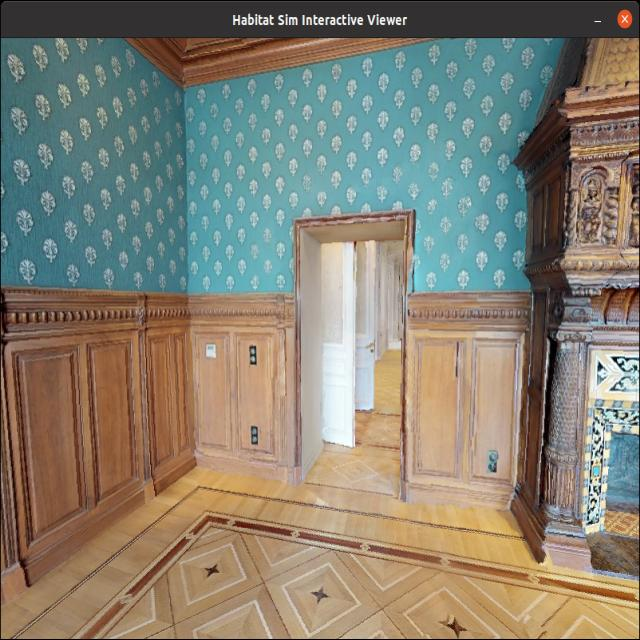door-frame: (288, 205, 424, 517)
